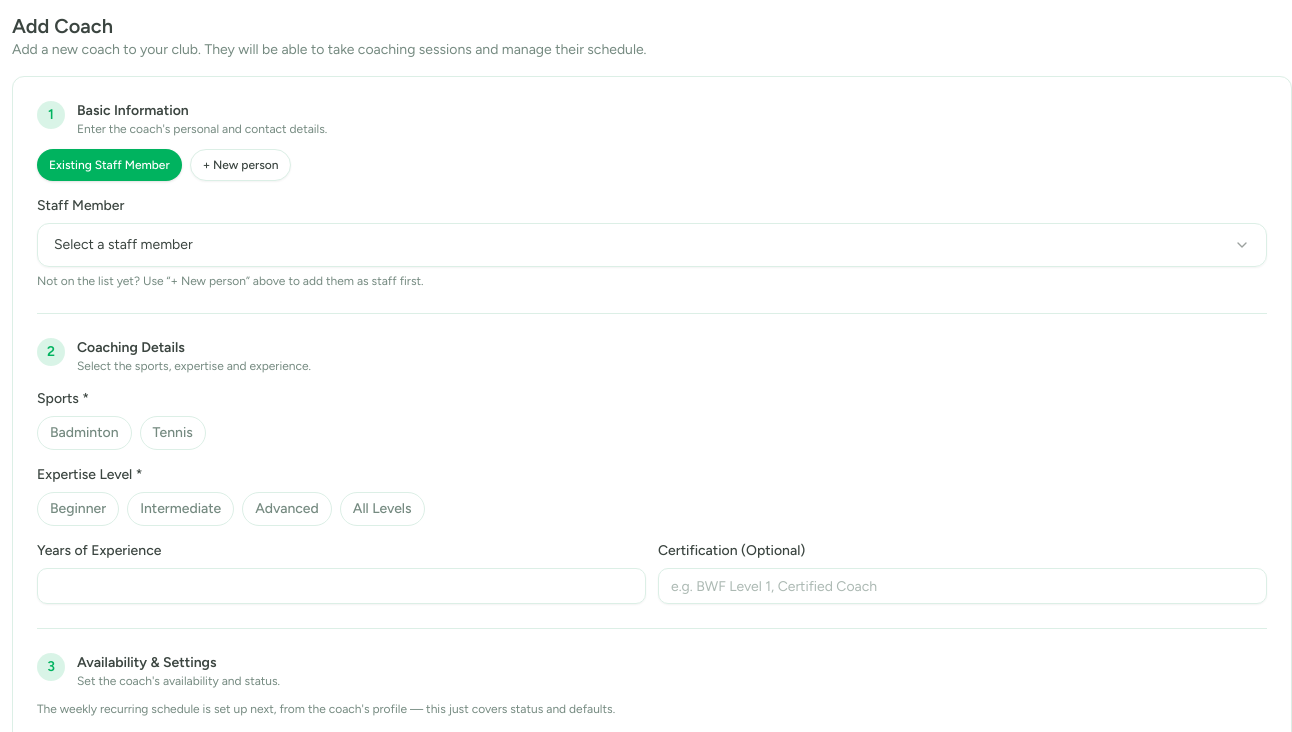
Test: AddCoachPage › surfaces the real error (e.g. a permission denial) when the Role list fails to load, instead of a silently empty dropdown
This screenshot has width=1292, height=732.
Click the button "+ New person" at (240, 165), box [190,149,291,181]
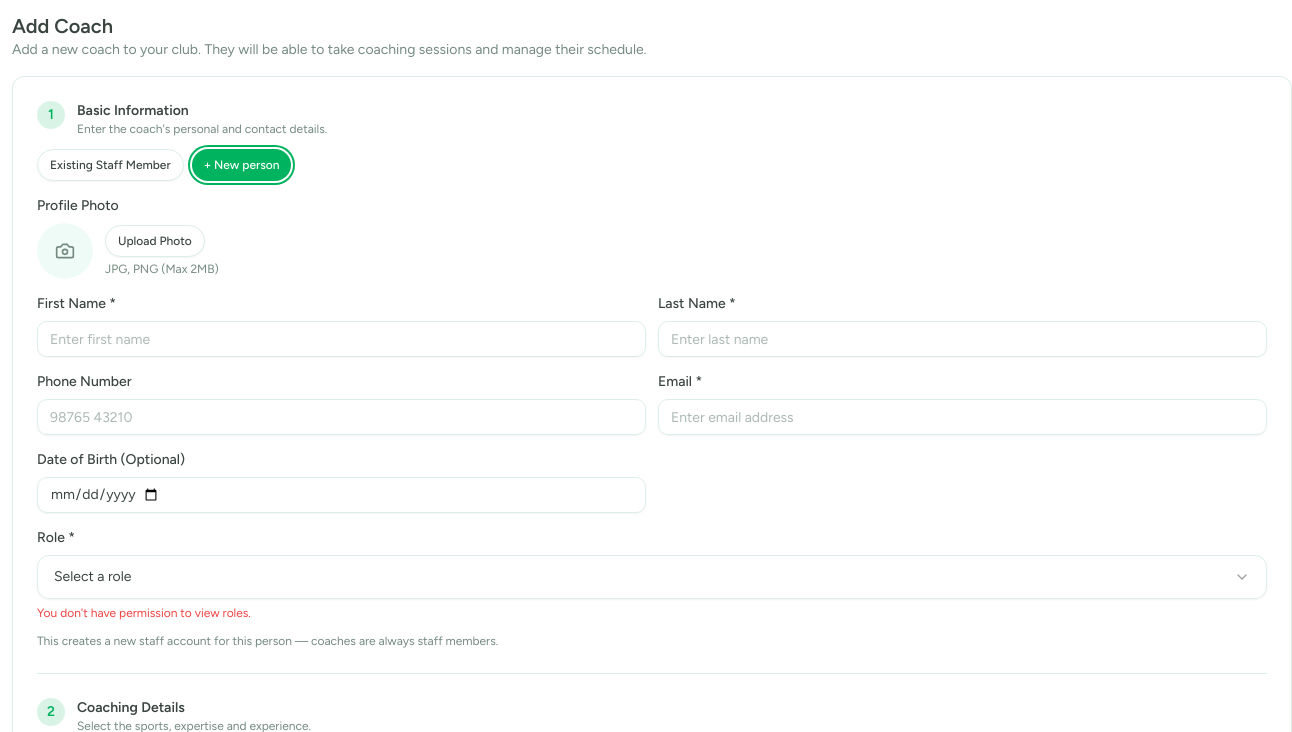
Now the text "You don't have permission to view roles." is shown, box [37,606,251,620]
Click the dropdown labelled "Select a role" at (93, 576), box [37,555,1267,599]
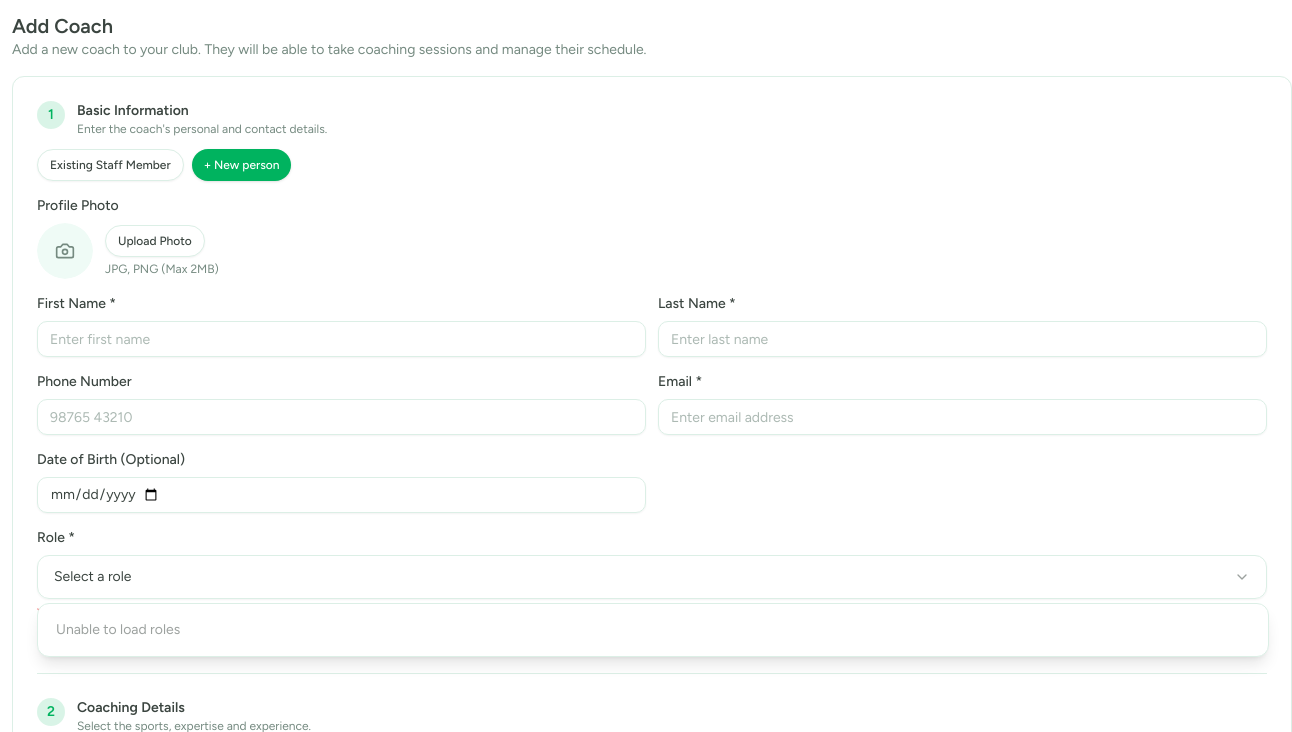
Now the text "Unable to load roles" is shown, box [56,620,180,640]
